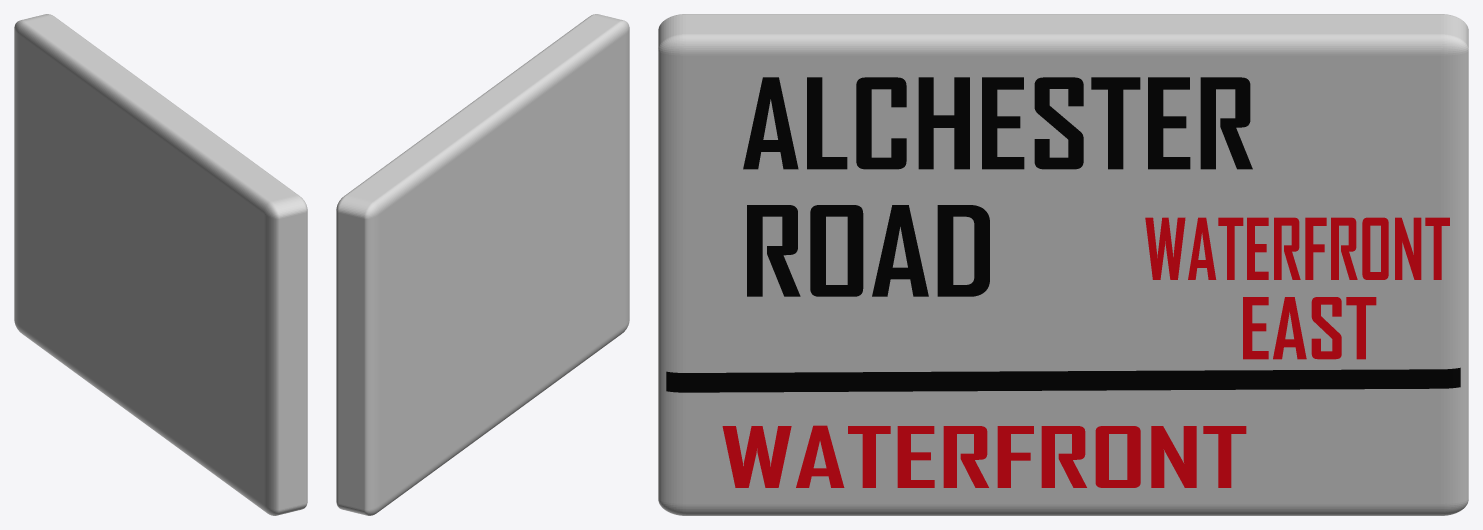
File: uk_styled_street_sign_49.fbx
3 renders of one model, left to right at view 1: azimuth 30°, elevation 25°; view 2: azimuth 150°, elevation 25°; view 3: azimuth 270°, elevation 25°, orthographic. The views are drawn at different scales.
Parts seen in each view (by area): view 1: Cube; view 2: Cube; view 3: Cube, Text, Text.002, Text.001, Text.003, Text.004.
Boxes of the visible parts, x1,y1,x2,y2 form: Cube: [14, 14, 307, 515]; Cube: [336, 14, 629, 515]; Cube: [658, 14, 1468, 515]; Text: [743, 77, 1252, 169]; Text.002: [722, 425, 1246, 487]; Text.001: [747, 205, 989, 296]; Text.003: [1145, 217, 1449, 279]; Text.004: [1243, 297, 1376, 359].
Size of the model in its own units: 1.63 by 11.91 by 18.18.
